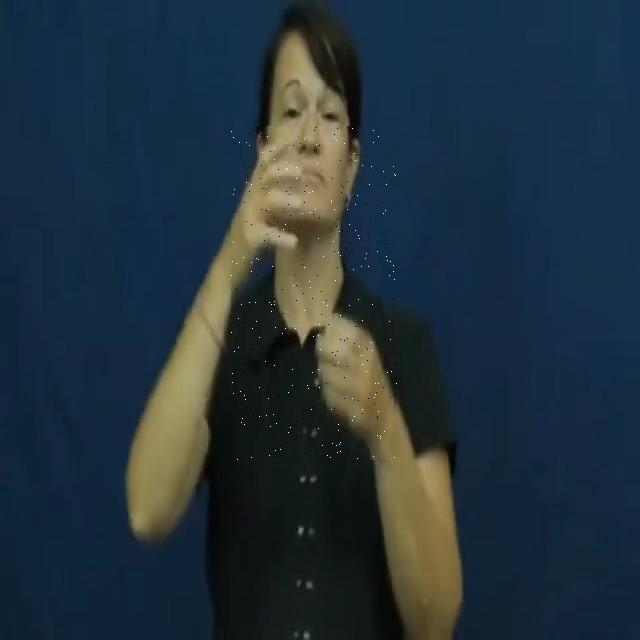lid: (232, 126, 398, 460)
